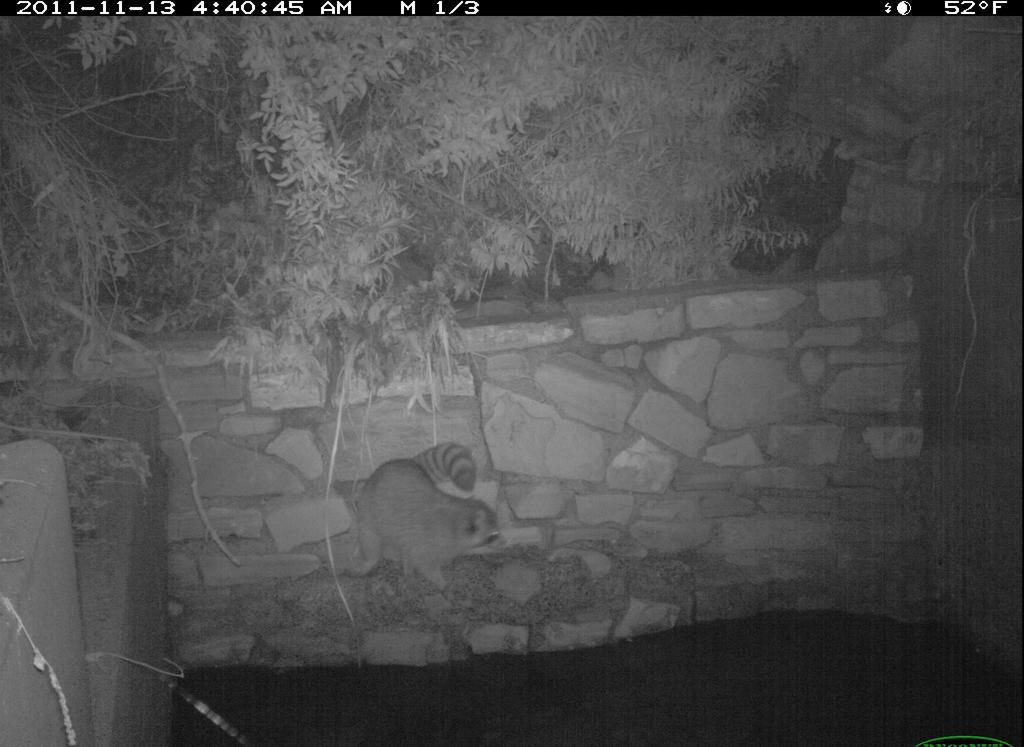raccoon: (353, 434, 514, 602)
